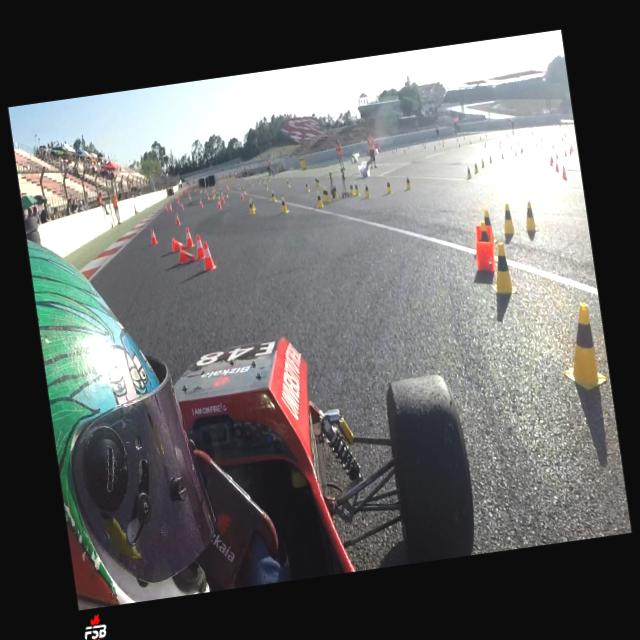orange_cone: (474, 240, 496, 274), (200, 240, 218, 272), (178, 244, 196, 264), (194, 233, 206, 260), (476, 224, 492, 244), (183, 226, 196, 248), (172, 236, 184, 252), (149, 228, 159, 245), (174, 212, 182, 225), (561, 166, 567, 180), (216, 199, 222, 210), (548, 156, 554, 166), (554, 160, 559, 172), (198, 198, 204, 208), (168, 203, 174, 212), (550, 152, 554, 164), (240, 192, 245, 201), (221, 196, 226, 204), (555, 151, 559, 160), (180, 202, 184, 210), (564, 149, 568, 157), (226, 184, 230, 192), (165, 204, 169, 211), (189, 195, 192, 202), (535, 141, 538, 147), (570, 148, 572, 154), (571, 146, 573, 152), (552, 142, 554, 148), (499, 138, 501, 144), (178, 200, 180, 206), (518, 140, 520, 146)
yellow_cone: (553, 301, 610, 393), (486, 242, 517, 296), (499, 202, 516, 238), (480, 208, 496, 244), (522, 200, 538, 232), (478, 222, 489, 242), (280, 196, 290, 214), (316, 191, 324, 209), (385, 178, 393, 194), (404, 176, 412, 191), (363, 184, 371, 199), (332, 183, 339, 198), (250, 199, 257, 214), (248, 200, 255, 215), (270, 190, 278, 202), (324, 188, 330, 202), (466, 166, 472, 180), (322, 188, 328, 202), (349, 184, 355, 196), (473, 162, 479, 174), (354, 181, 359, 195), (315, 177, 321, 188), (305, 182, 311, 193), (480, 158, 486, 168), (286, 180, 292, 188), (264, 183, 269, 191), (488, 154, 492, 164), (225, 190, 229, 198), (500, 152, 504, 160), (206, 192, 210, 200), (210, 192, 214, 200), (243, 188, 247, 195), (217, 192, 220, 200), (220, 188, 223, 196), (212, 190, 215, 198), (514, 150, 517, 156), (267, 177, 270, 183), (510, 142, 512, 150), (458, 143, 461, 148), (238, 183, 240, 190), (520, 148, 522, 154), (522, 146, 524, 152), (499, 143, 501, 149), (250, 182, 253, 186), (258, 179, 260, 185), (484, 142, 486, 148), (262, 178, 264, 184)
